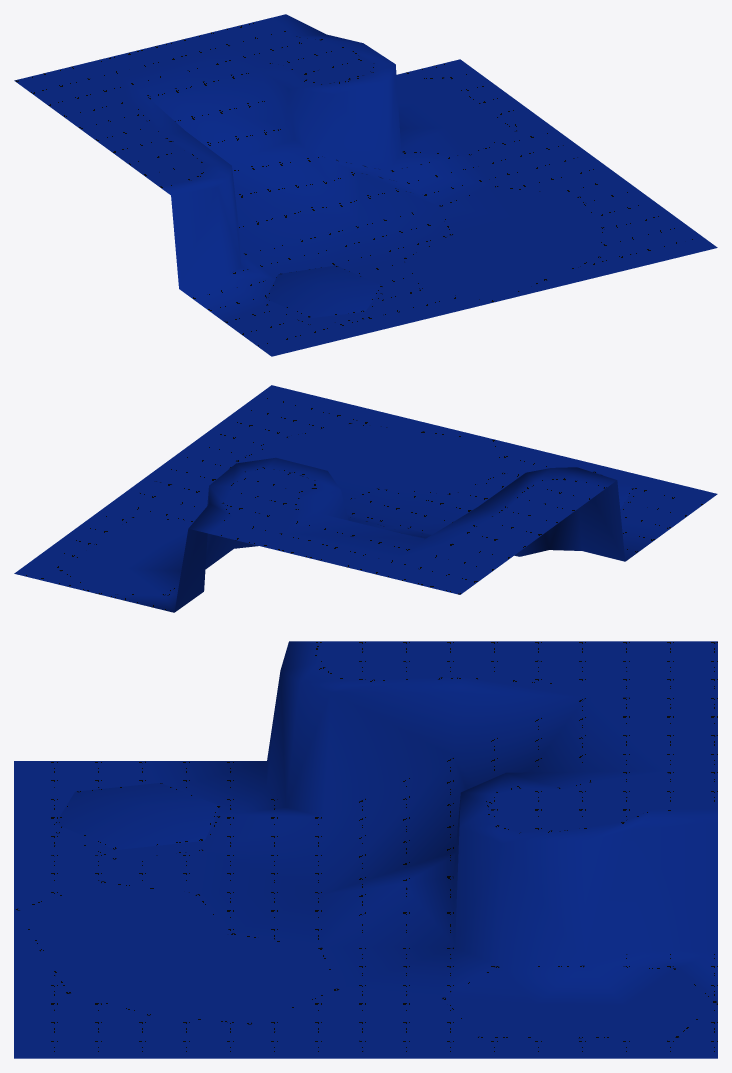
File: GRD_S_C2_S_2.fbx
3 renders of one model, top to bottom at view 1: azimuth 30°, elevation 25°; view 2: azimuth 150°, elevation 25°; view 3: azimuth 270°, elevation 25°, orthographic. The views are drawn at different scales.
Visible parts, largest first — view 1: material_00032000, material_C0042000, material_00022000, material_C0012000, material_C0052000; view 2: material_00032000, material_C0042000, material_00022000; view 3: material_00032000, material_00022000, material_C0042000, material_C0012000, material_C0052000.
Part boxes in pixels (x1,y1,x2,y2): material_00032000: (14, 19, 717, 356); material_C0042000: (396, 77, 604, 302); material_00022000: (127, 14, 401, 288); material_C0012000: (266, 265, 382, 318); material_C0052000: (266, 291, 382, 325); material_00032000: (14, 385, 717, 612); material_C0042000: (59, 423, 506, 595); material_00022000: (174, 457, 625, 612); material_00032000: (14, 641, 717, 1058); material_00022000: (266, 641, 717, 965); material_C0042000: (14, 881, 717, 1038); material_C0012000: (55, 783, 220, 849); material_C0052000: (55, 814, 220, 859).
Bounding box in the file's own units: 12800 × 2400 × 12800.
